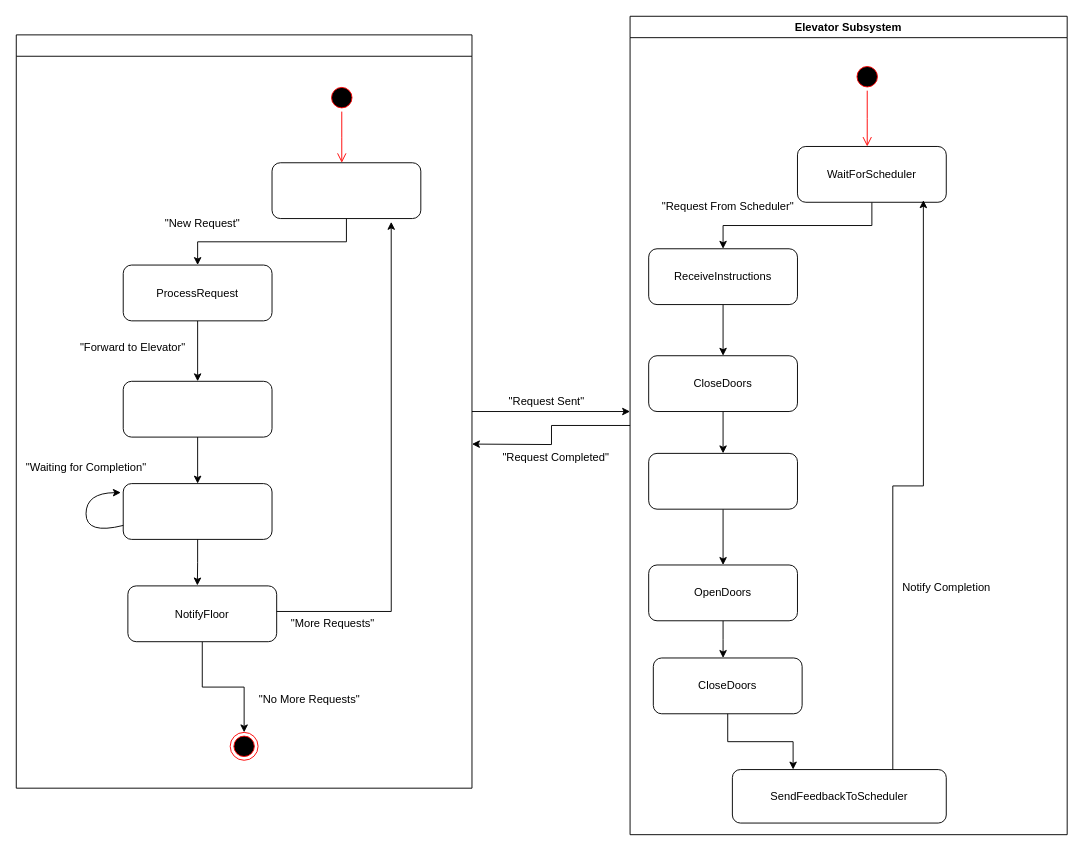
Some shapes in this 1083 by 851 pixel diagram are drawn without their labels. The box of each missing label's shape, as (x1, y1, x2, y2) in pixels:
MovingToFloor: (648, 452, 797, 509)
Scheduler Subsystem: (15, 34, 472, 788)
SendToElevator: (122, 380, 272, 437)
WaitForElevator: (122, 483, 272, 539)
WaitForRequest: (271, 162, 421, 219)
